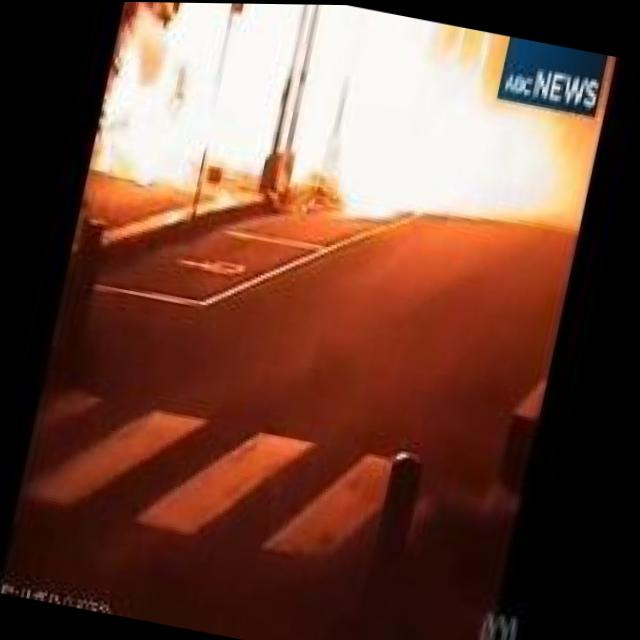fire: (87, 1, 597, 256)
